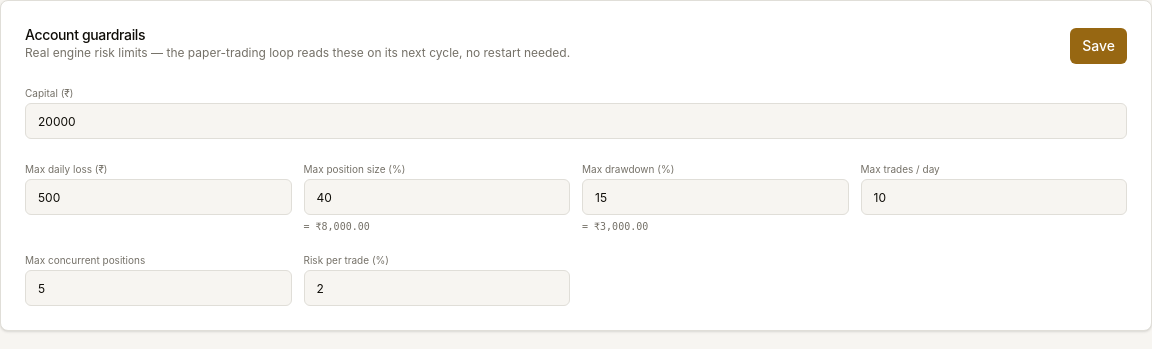
it: AccountGuardrailsCard › rounds max trades/day to a whole number — the backend rejects a non-integral value
Replace the text in the number field labelled "Max trades / day" with "12.5" at (994, 197), box [860, 179, 1127, 215]
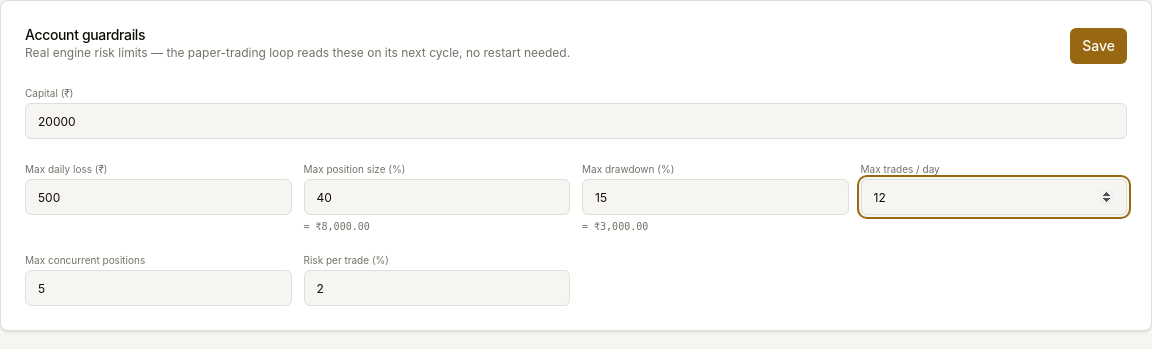
expect the number field labelled "Max trades / day" holds "12": met, box [860, 179, 1127, 215]
